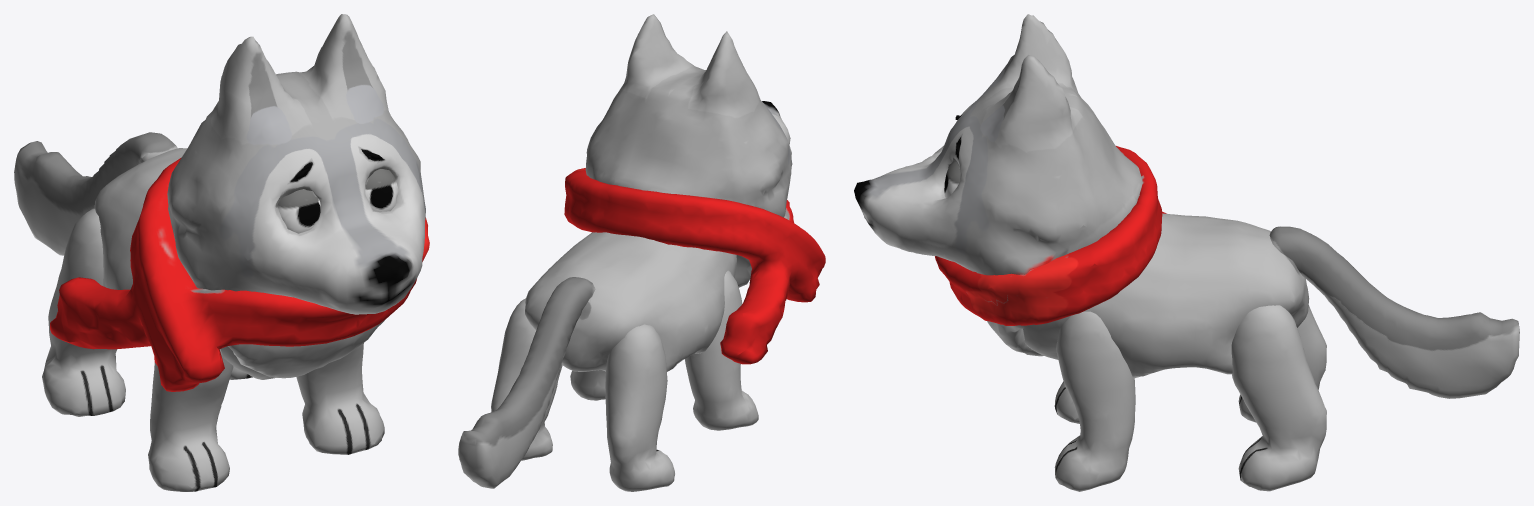
Rendered from normal wolf.fbx.
3 views of the same model, side by side, from view 1: azimuth 30°, elevation 25°; view 2: azimuth 150°, elevation 25°; view 3: azimuth 270°, elevation 25° (orthographic). The views are drawn at different scales.
Visible parts, largest first — view 1: wolf; view 2: wolf; view 3: wolf.
Boxes of the visible parts, <box> form: wolf: <box>14,14,429,491</box>; wolf: <box>458,14,825,491</box>; wolf: <box>854,14,1519,491</box>.
Bounding box in the file's own units: 86.66 × 129 × 189.
Materials: 1 (1 with a texture image).
